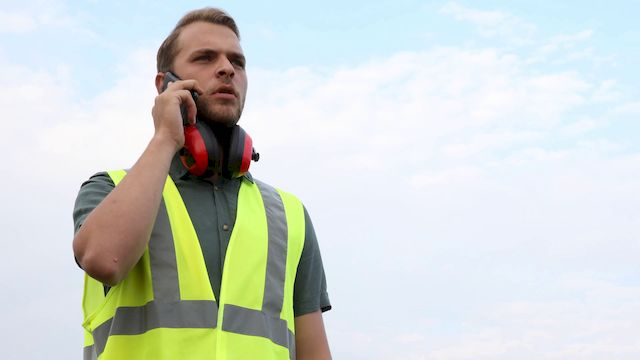phone: (155, 75, 195, 107)
talk: (152, 40, 248, 138)
